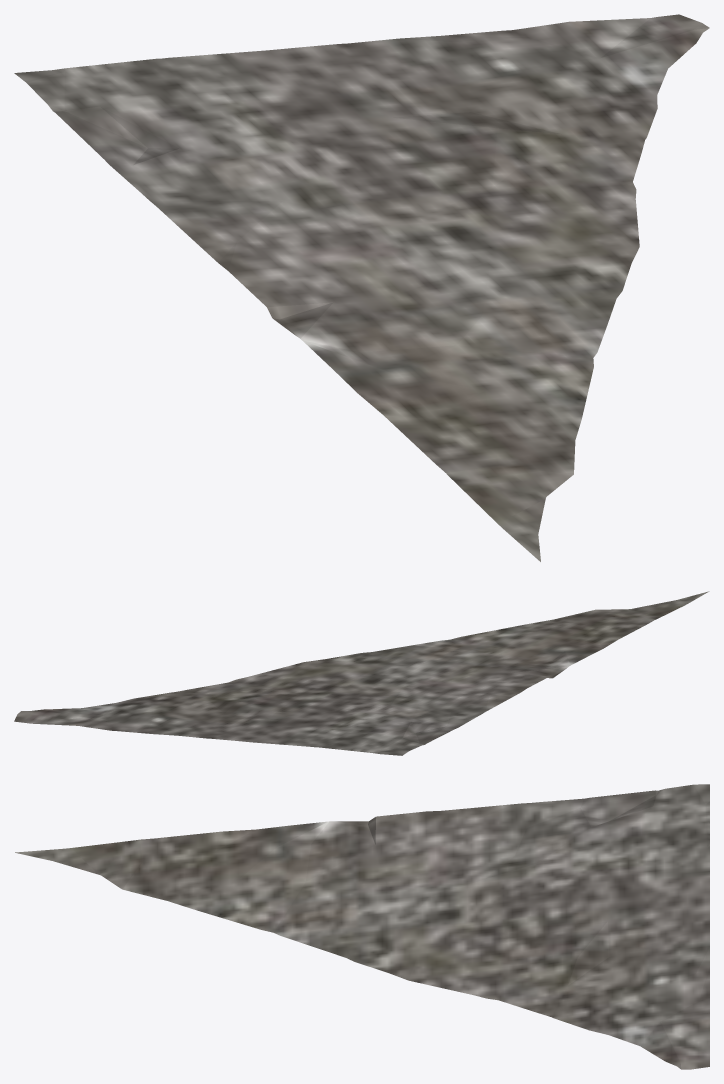
3 renders of one model, top to bottom at view 1: azimuth 30°, elevation 25°; view 2: azimuth 150°, elevation 25°; view 3: azimuth 270°, elevation 25°, orthographic. The views are drawn at different scales.
Size of the model in its own units: 0.3649 by 0.0536 by 0.4941.
1 material, 1 textured.
